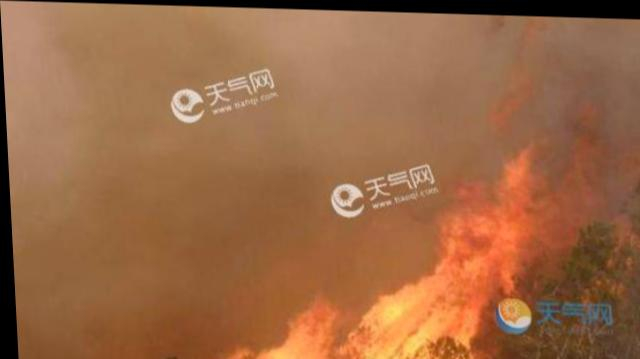fire: (332, 154, 585, 357), (211, 289, 335, 357)
